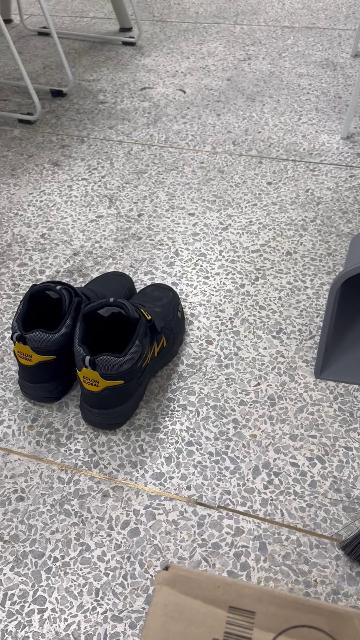shoe_worn: (9, 269, 137, 403), (74, 281, 188, 429)
